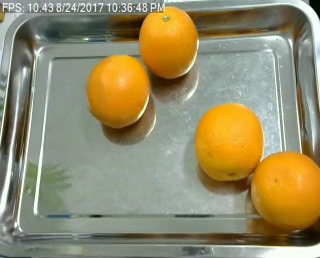Orange: (251, 149, 320, 231), (194, 102, 263, 180), (88, 54, 150, 127), (138, 7, 199, 79)
